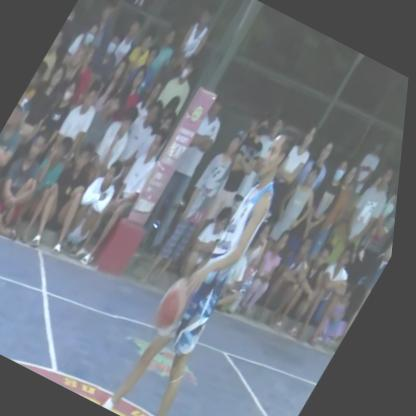basketball: (150, 276, 206, 342)
